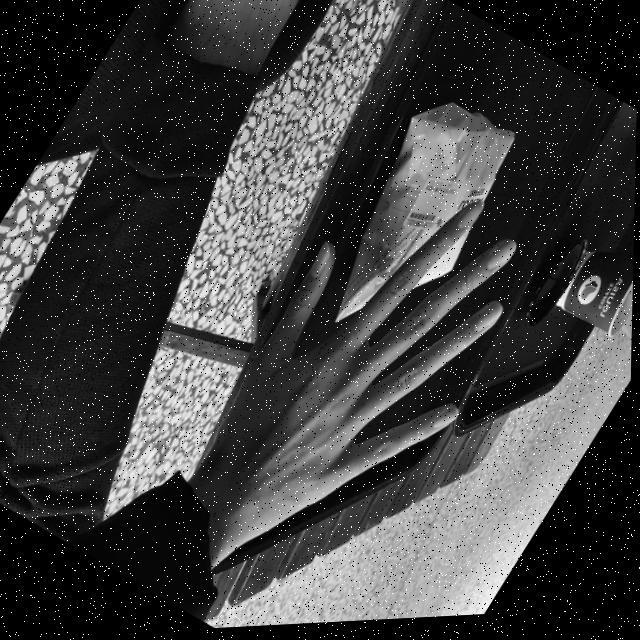no-gloves: (160, 136, 569, 604)
